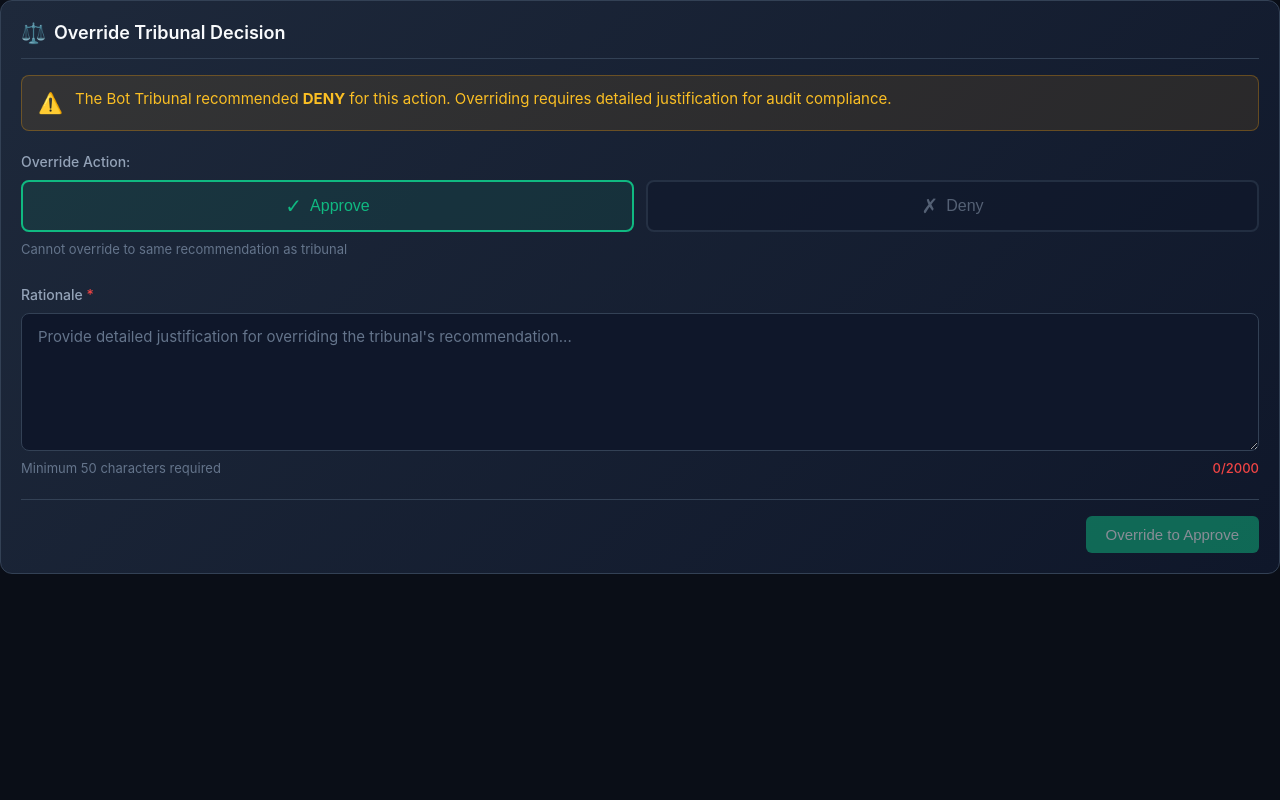
Test: OverrideRationale › Validation › shows error when rationale too short on blur
The width and height of the screenshot is (1280, 800).
Replace the text in the text box labelled "Rationale *" with "Too short": [640, 382] box [21, 312, 1259, 451]
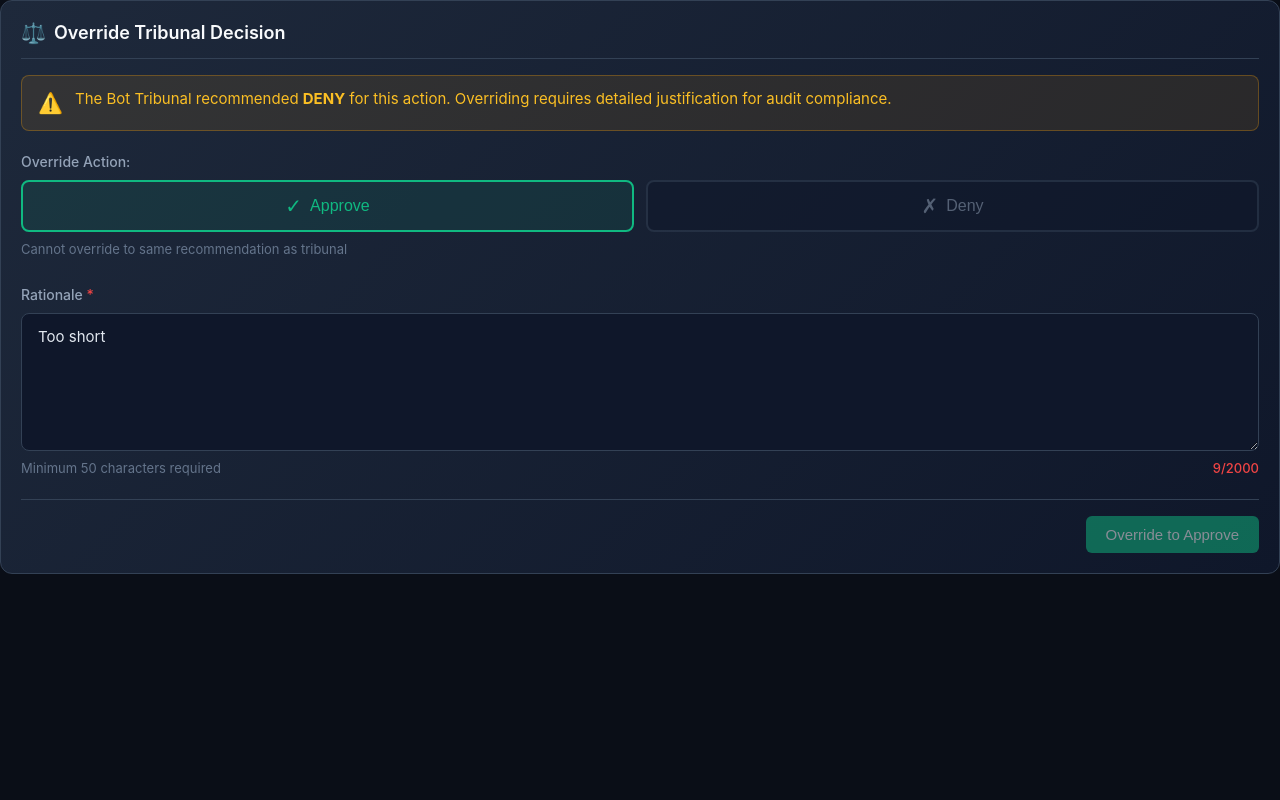
Leave the text box labelled "Rationale *", box [21, 312, 1259, 451]
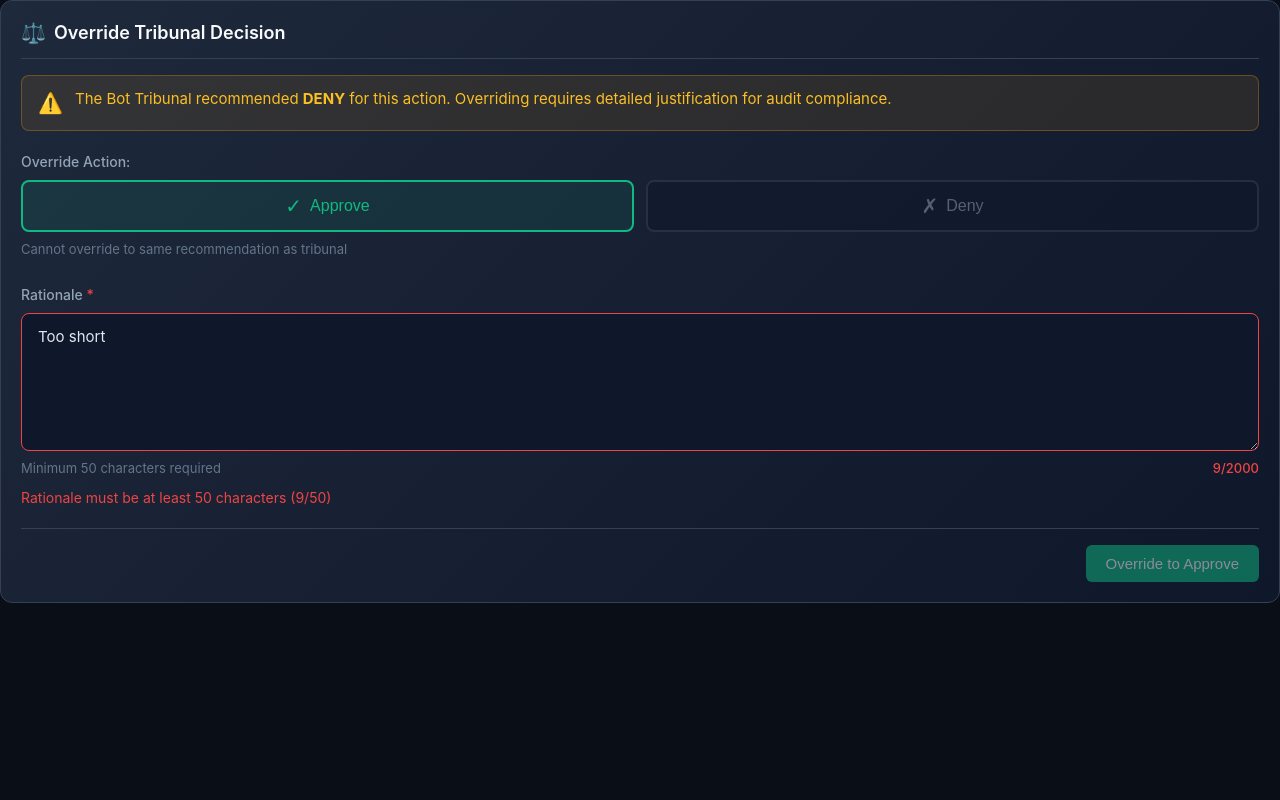
Result: the text "Rationale must be at least 50 characters (9/50)" is shown at [21, 488, 331, 506]
